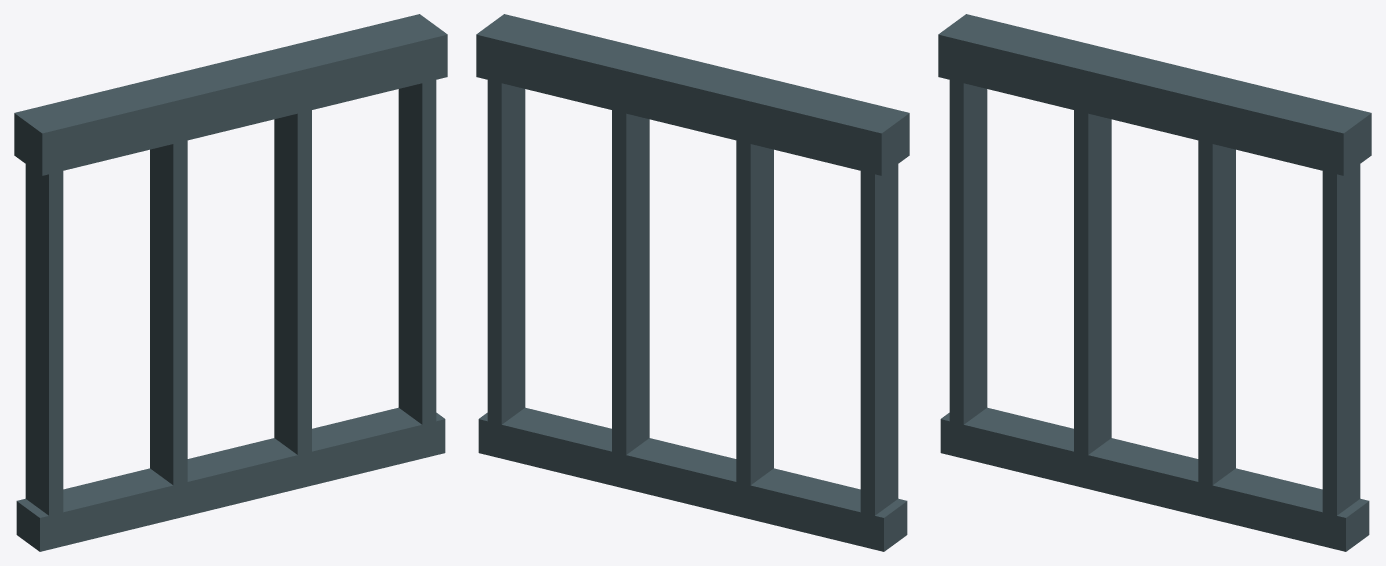
File: FacadeKit_BalconyRail_LOD1.glb
3 views of the same model, side by side, from view 1: azimuth 30°, elevation 25°; view 2: azimuth 150°, elevation 25°; view 3: azimuth 330°, elevation 25° (orthographic).
Visible parts, largest first — view 1: FacadeKit_BalconyRail_LOD1; view 2: FacadeKit_BalconyRail_LOD1; view 3: FacadeKit_BalconyRail_LOD1.
Part boxes in pixels (x1,y1,x2,y2): FacadeKit_BalconyRail_LOD1: (14,14,447,551); FacadeKit_BalconyRail_LOD1: (476,14,909,551); FacadeKit_BalconyRail_LOD1: (938,14,1371,551).
Bounding box in the file's own units: 1 × 0.99 × 0.12.
